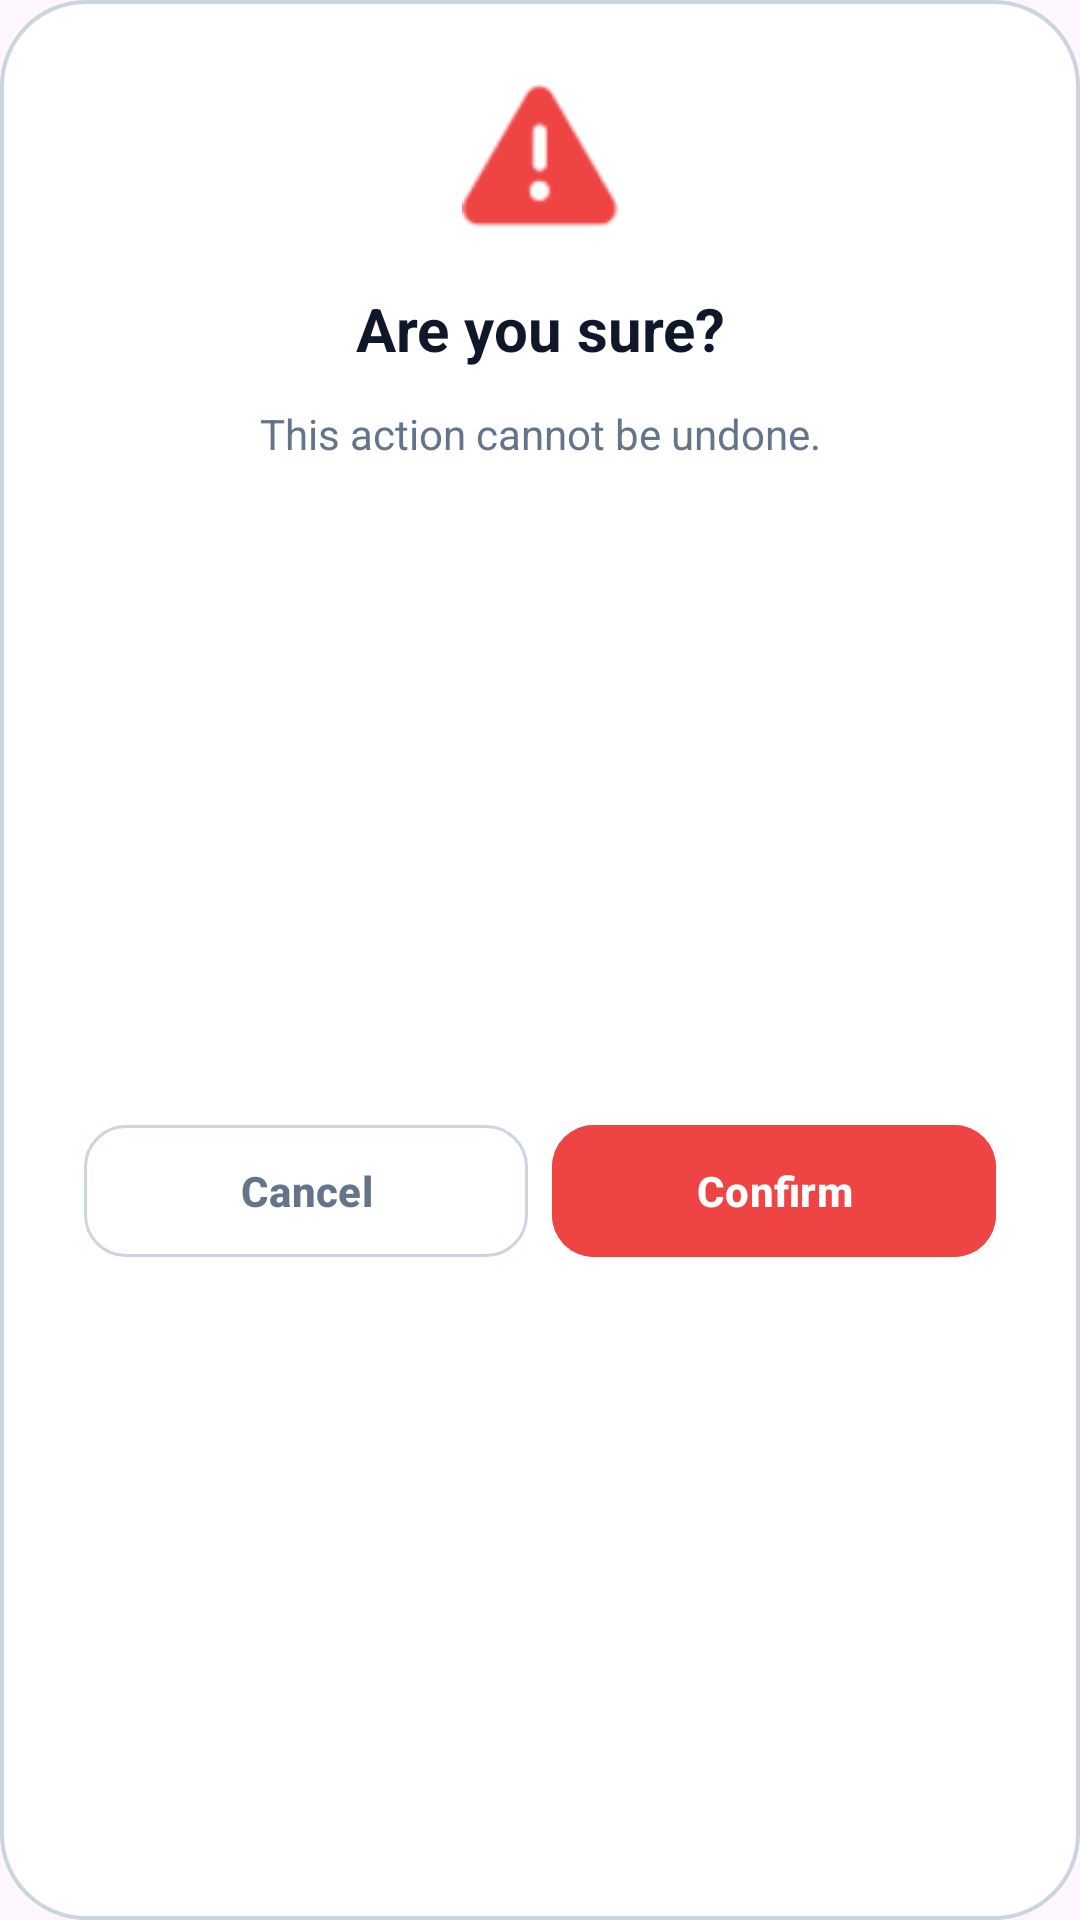

Where icons sit on this 1080px×1920px app screen, as rect(x1, y1, x2, y2):
Warning Icon: rect(462, 84, 618, 226)
